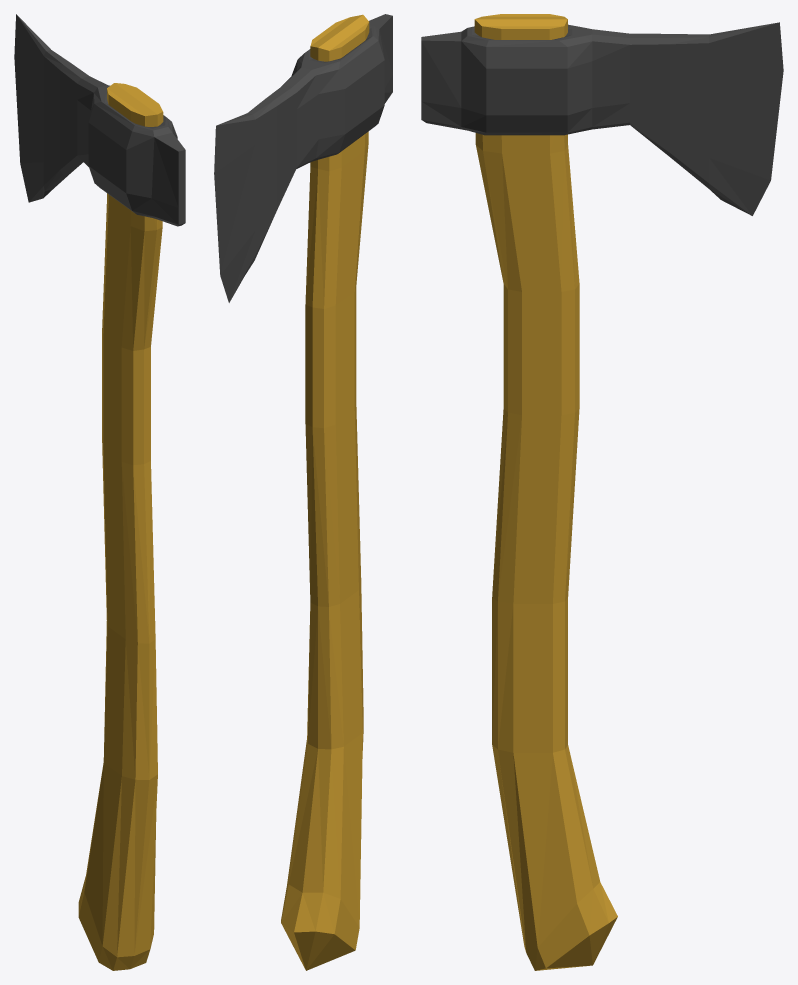
The model's file is FellingAxe_FBX.fbx.
The picture shows the model from 3 angles, left to right: view 1: azimuth 30°, elevation 25°; view 2: azimuth 150°, elevation 25°; view 3: azimuth 270°, elevation 25°; orthographic projection. The views are drawn at different scales.
Parts seen in each view (by area): view 1: FellingAxe; view 2: FellingAxe; view 3: FellingAxe.
Boxes of the visible parts, <box> form: FellingAxe: <box>14,14,185,970</box>; FellingAxe: <box>214,14,392,970</box>; FellingAxe: <box>421,14,783,970</box>.
Size of the model in its own units: 58.58 by 949 by 329.
